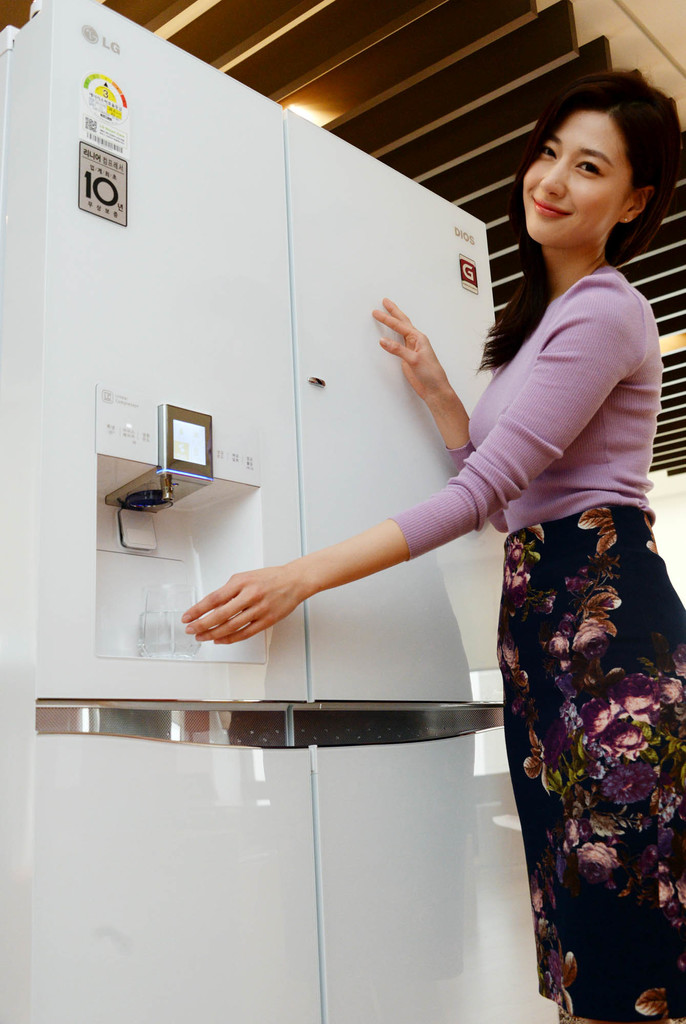handle: (33, 690, 287, 767), (293, 684, 493, 775)
refrigerator door: (60, 30, 297, 695), (288, 108, 505, 695), (34, 722, 318, 1024), (319, 735, 531, 1024)
